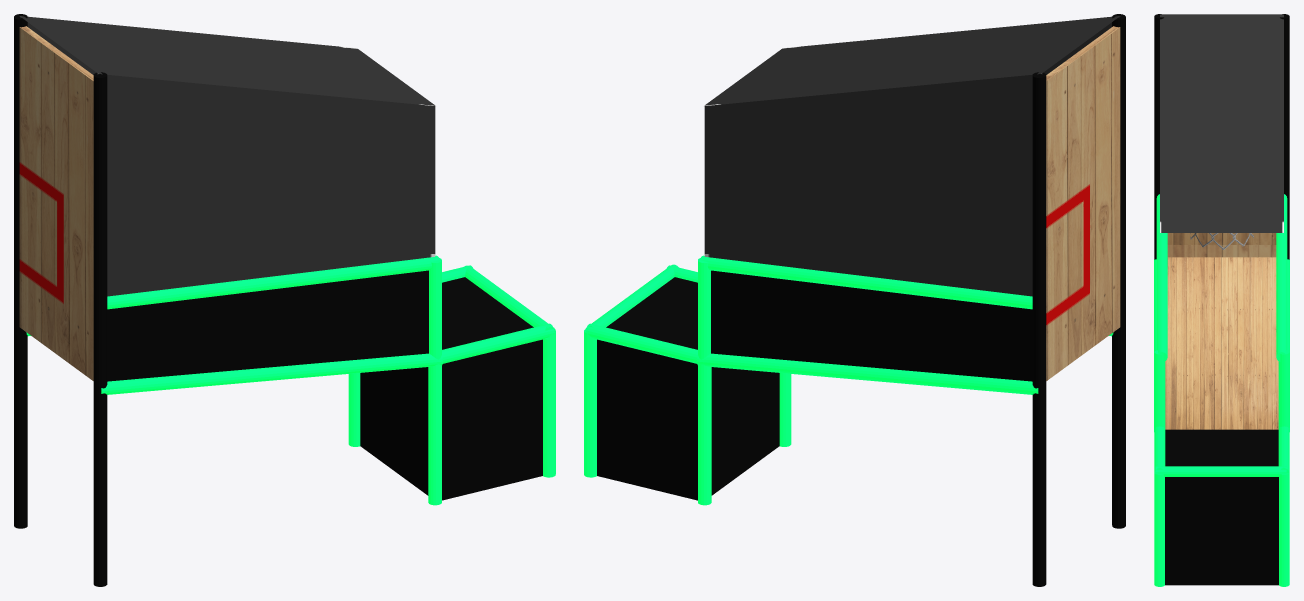
Rendered from cansta.fbx.
The picture shows the model from 3 angles, left to right: view 1: azimuth 30°, elevation 25°; view 2: azimuth 150°, elevation 25°; view 3: azimuth 270°, elevation 25°; orthographic projection. The views are drawn at different scales.
Visible parts, largest first — view 1: Plane.002, Cube.002, Cube.003, Cube.004, Plane.003, Cylinder.006, Cylinder.010, Cylinder.008, Cylinder.004, Cylinder.007, Cylinder.005, Cylinder.009; view 2: Plane.002, Cube.002, Cube.003, Cube.004, Plane.003, Cylinder.006, Cylinder.010, Cylinder.008, Cylinder.004, Cylinder.007, Cylinder.005, Cylinder.009; view 3: Plane.003, Plane.001, Cube.003, Cylinder.008, Cube.004, Cylinder.006, Cylinder.005, Cylinder.004, Cylinder.009, Cylinder.007, Cylinder.010, Cylinder.003.
Part boxes in pixels (left/top/right/bottom): Plane.002: left=20, top=17, right=435, bottom=296; Cube.002: left=107, top=270, right=428, bottom=381; Cube.003: left=360, top=277, right=542, bottom=500; Cube.004: left=19, top=26, right=93, bottom=380; Plane.003: left=20, top=16, right=435, bottom=106; Cylinder.006: left=14, top=14, right=107, bottom=586; Cylinder.010: left=26, top=332, right=442, bottom=394; Cylinder.008: left=107, top=255, right=439, bottom=309; Cylinder.004: left=348, top=258, right=441, bottom=505; Cylinder.007: left=430, top=265, right=554, bottom=366; Cylinder.005: left=543, top=332, right=555, bottom=477; Cylinder.009: left=464, top=265, right=555, bottom=339; Plane.002: left=704, top=17, right=1119, bottom=296; Cube.002: left=711, top=270, right=1032, bottom=381; Cube.003: left=597, top=277, right=779, bottom=500; Cube.004: left=1046, top=26, right=1120, bottom=380; Plane.003: left=704, top=16, right=1119, bottom=106; Cylinder.006: left=1032, top=14, right=1125, bottom=586; Cylinder.010: left=696, top=332, right=1113, bottom=394; Cylinder.008: left=699, top=255, right=1032, bottom=309; Cylinder.004: left=698, top=258, right=791, bottom=505; Cylinder.007: left=585, top=265, right=709, bottom=366; Cylinder.005: left=584, top=329, right=596, bottom=477; Cylinder.009: left=585, top=264, right=678, bottom=330; Plane.003: left=1160, top=14, right=1283, bottom=232; Plane.001: left=1165, top=257, right=1278, bottom=429; Cube.003: left=1165, top=429, right=1278, bottom=585; Cylinder.008: left=1156, top=194, right=1287, bottom=361; Cube.004: left=1167, top=233, right=1276, bottom=257; Cylinder.006: left=1154, top=14, right=1289, bottom=259; Cylinder.005: left=1154, top=473, right=1289, bottom=586; Cylinder.004: left=1154, top=350, right=1289, bottom=428; Cylinder.009: left=1155, top=466, right=1286, bottom=476; Cylinder.007: left=1154, top=426, right=1289, bottom=473; Cylinder.010: left=1154, top=259, right=1289, bottom=431; Cylinder.003: left=1190, top=233, right=1253, bottom=249.
Bounding box in the file's own units: 385 × 408 × 126.
16 materials, 5 textured.
